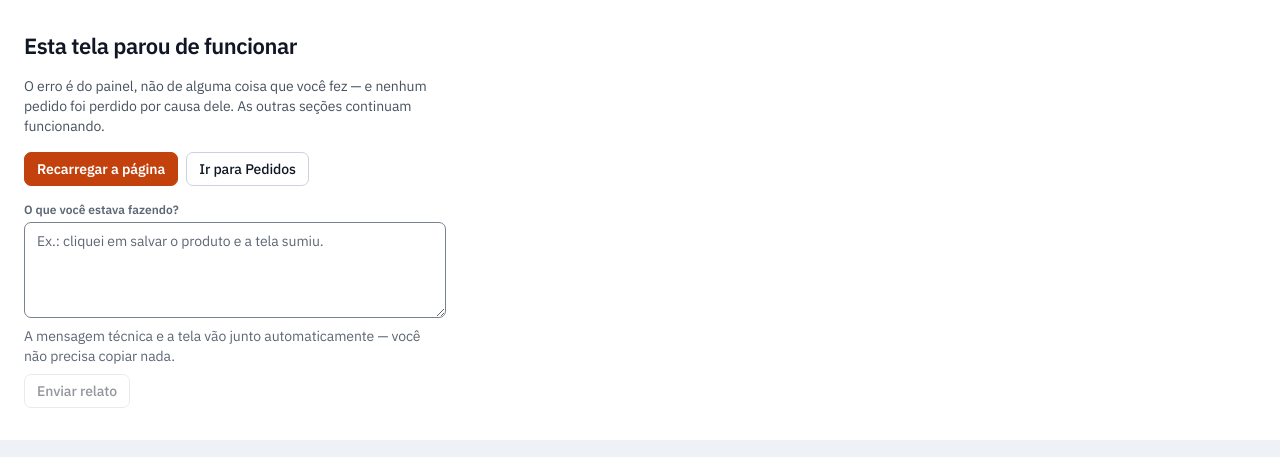
Test: ErroDaTela · o relato › manda a história, o log e a tela — e o log traz o erro e os componentes
The width and height of the screenshot is (1280, 457).
Type "cliquei em salvar e sumiu tudo" into the text box with test id "erro-descricao".
click(235, 270); type("cliquei em salvar e sumiu tudo")  # box [24,222,446,318]
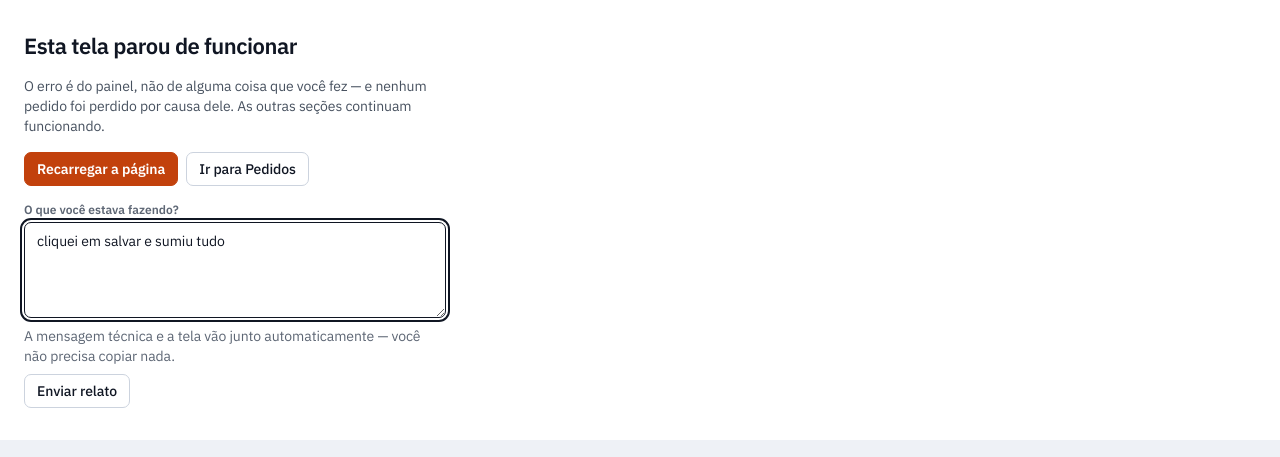
Click the button with test id "erro-enviar".
click(77, 391)  # box [24,374,130,408]
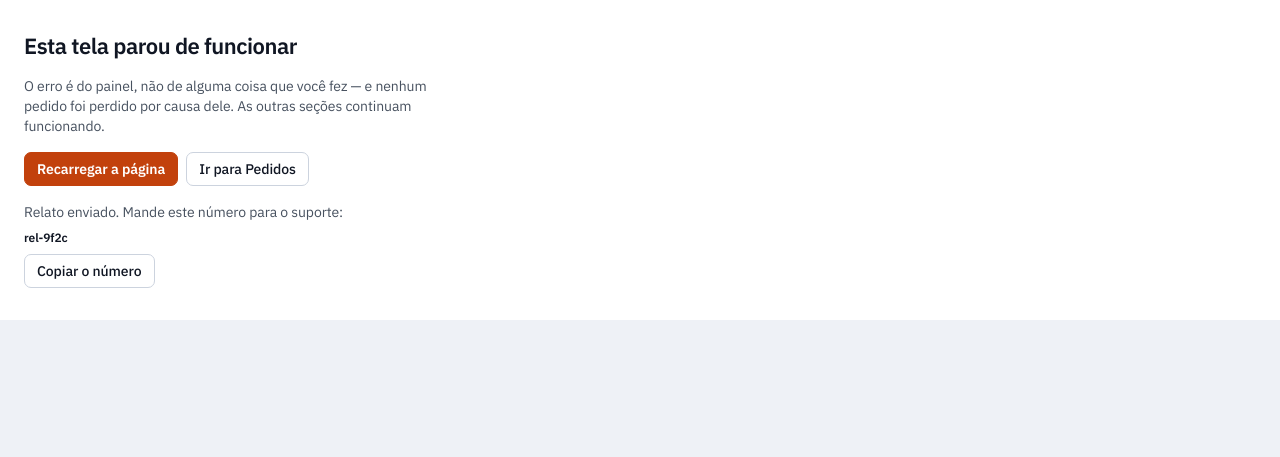
expect the element with test id "erro-protocolo" shows "rel-9f2c": met, box [24,230,68,245]
